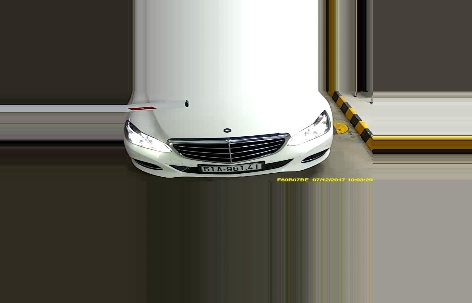plate: (197, 160, 265, 172)
